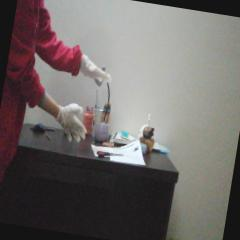gloved: (54, 100, 92, 146), (79, 54, 116, 82)
